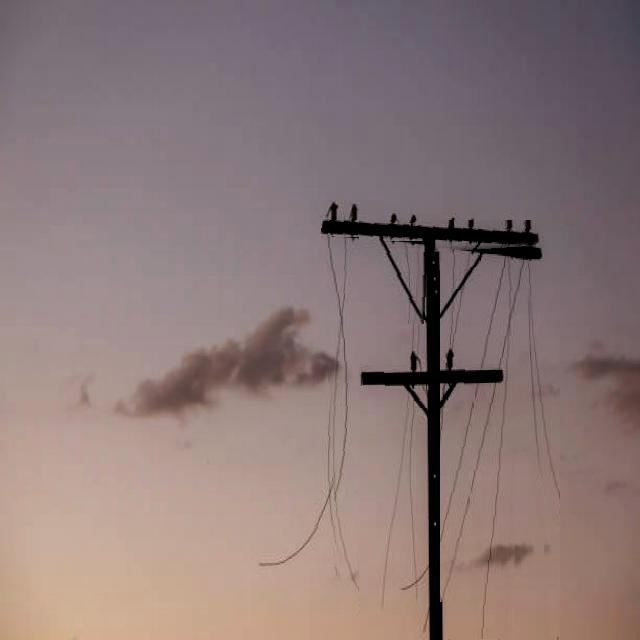crossarm: (322, 220, 542, 249), (383, 242, 425, 324), (441, 252, 484, 323), (362, 371, 511, 390), (404, 383, 427, 416), (443, 387, 462, 419)
pole: (428, 240, 442, 568)
wire: (447, 257, 528, 605), (267, 235, 345, 569), (440, 261, 506, 567), (330, 237, 359, 599), (529, 260, 560, 536), (503, 258, 514, 638)
